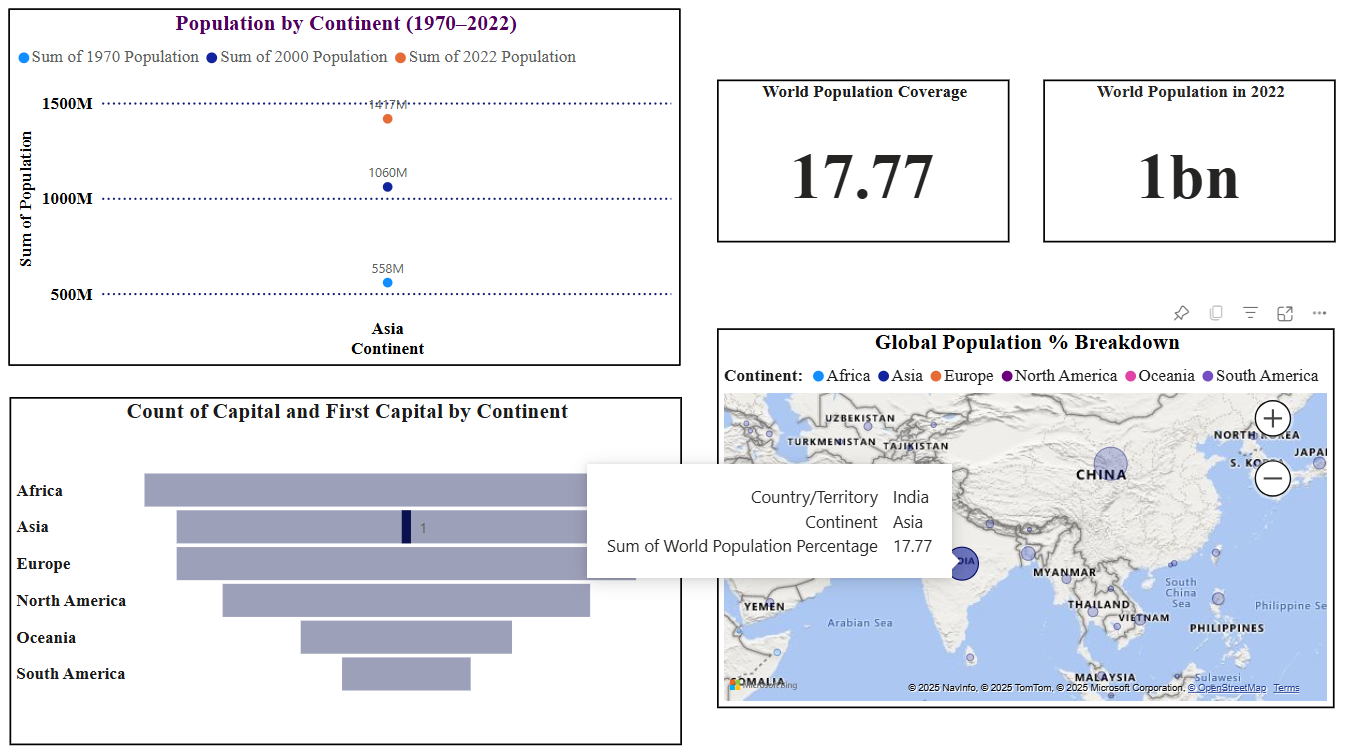

This screenshot's page, from the dashboard's own definition file:
{"tool":"powerbi","page":{"name":"Page 1","canvas":[1280,720],"ordinal":0},"visuals":[{"type":"lineChart","title":"Population by Continent (1970–2022)","fields":{"Y":["Sum(world_population.1970 Population)","Sum(world_population.2000 Population)","Sum(world_population.2022 Population)"],"Category":["world_population.Continent"]},"box":[34.3,11,627.1,333.4],"z":0},{"type":"map","title":"Global Population % Breakdown","fields":{"Category":["world_population.Country/Territory"],"Series":["world_population.Continent"],"Size":["Sum(world_population.World Population Percentage)"]},"box":[695.4,308.5,576,354.5],"z":2000},{"type":"card","title":"World Population in 2022","fields":{"Values":["Sum(world_population.2022 Population)"]},"box":[998.9,77.1,272.4,151.8],"z":3000},{"type":"card","title":"World Population Coverage","fields":{"Values":["Sum(world_population.World Population Percentage)"]},"box":[695.4,77.1,272.4,151.8],"z":4000},{"type":"funnel","fields":{"Category":["world_population.Continent"],"Y":["CountNonNull(world_population.Capital)"]},"box":[34.8,373.2,627,324.7],"z":5000}]}

Visuals, with their boxes in screenshot pixels (x1, y1, x2, y2), scaled from the page's 1280x720 canvas onto the 1366x756 screenshot:
"Population by Continent (1970–2022)" lineChart: [37,12,706,362]
"Global Population % Breakdown" map: [742,324,1357,696]
"World Population in 2022" card: [1066,81,1357,240]
"World Population Coverage" card: [742,81,1033,240]
funnel - world_population.Continent x CountNonNull(world_population.Capital): [37,392,706,733]
